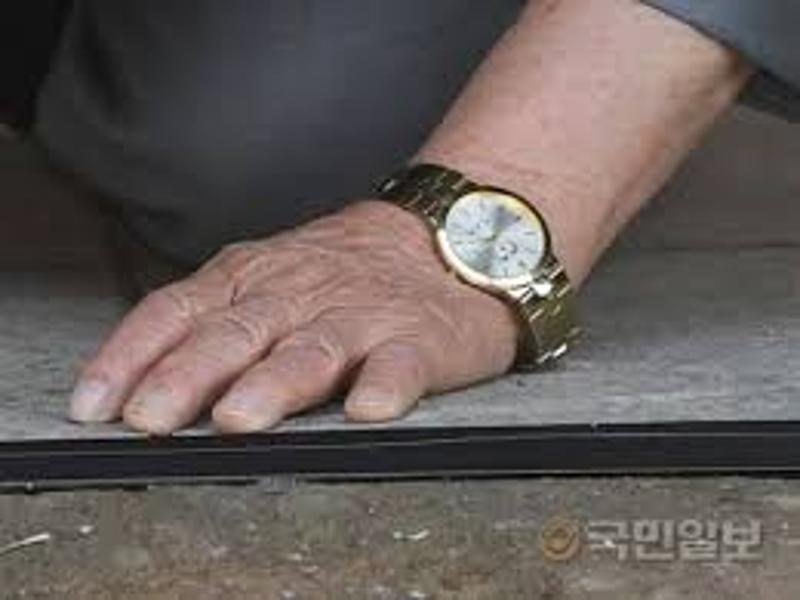watch: (366, 165, 582, 374)
